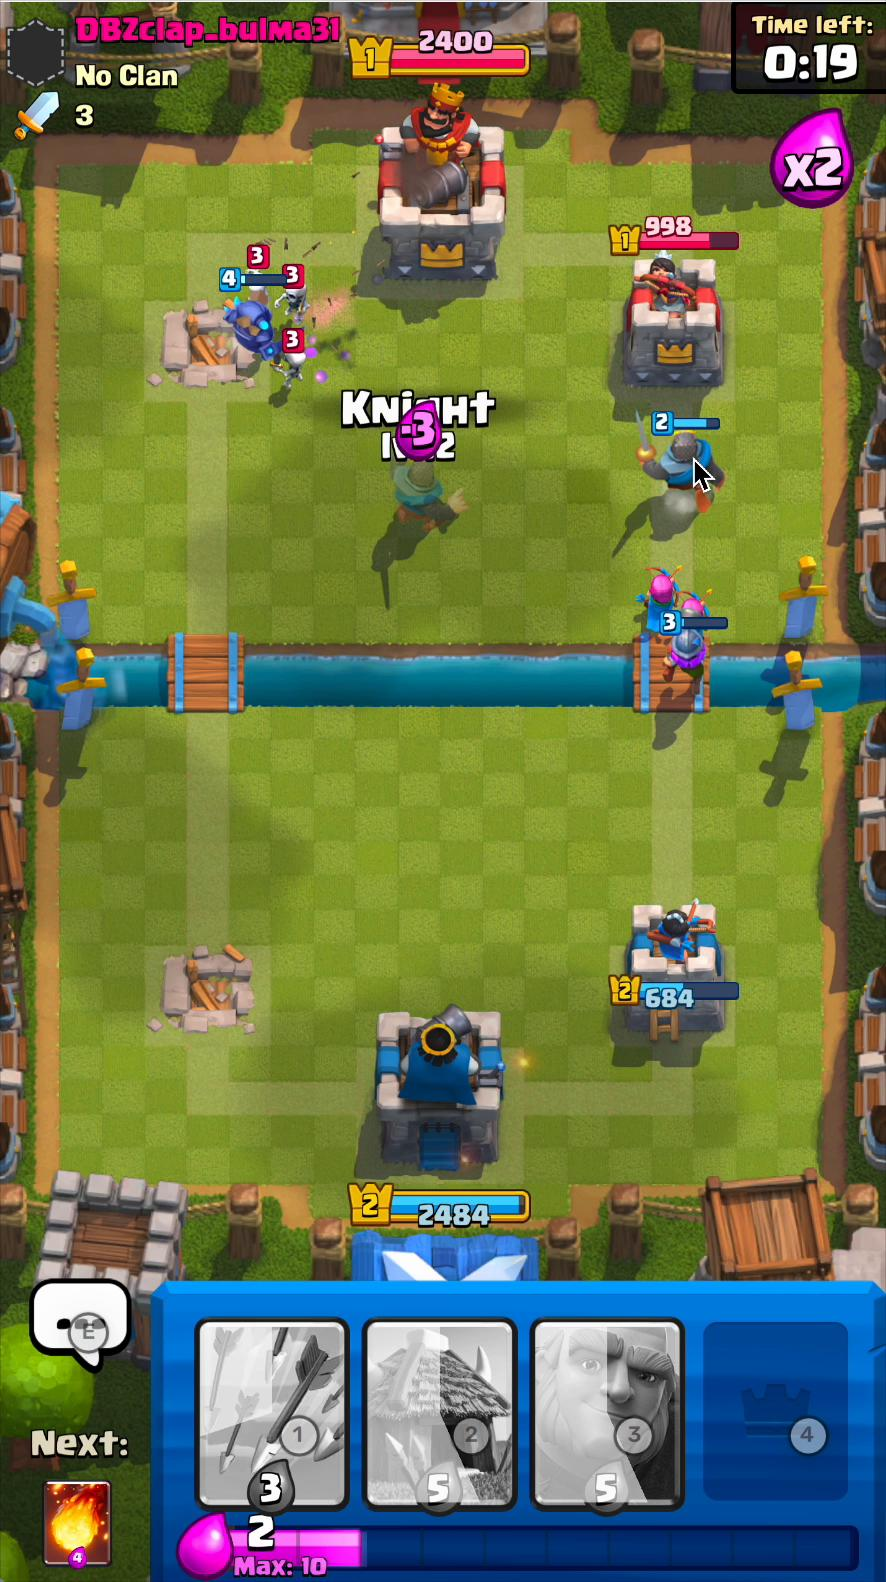archere: (645, 567, 681, 637), (677, 582, 717, 625)
chevalier: (621, 401, 729, 511), (372, 447, 478, 549)
mini_PEKKA: (216, 298, 283, 367)
mousquetaire: (661, 626, 707, 691)
squelette: (274, 346, 315, 391), (276, 284, 310, 318)
